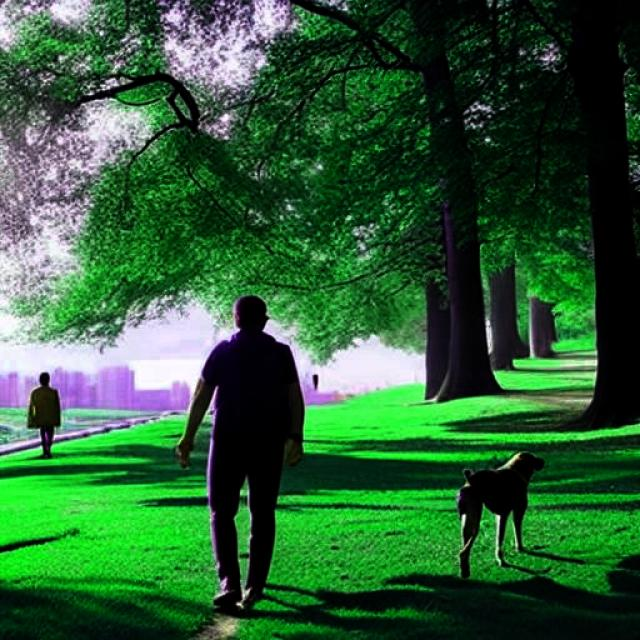Unleashed_Dog: (206, 451, 544, 582)
